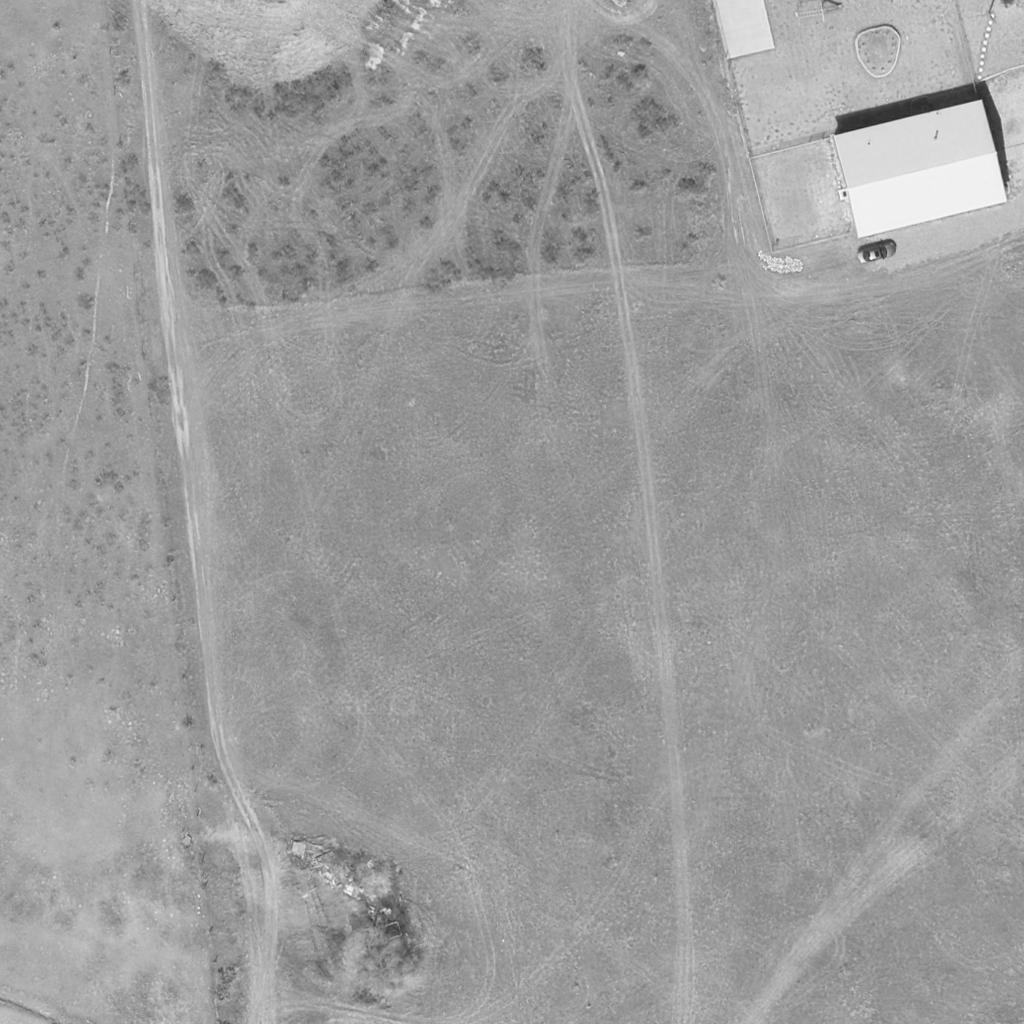vehicle: (856, 241, 898, 265)
